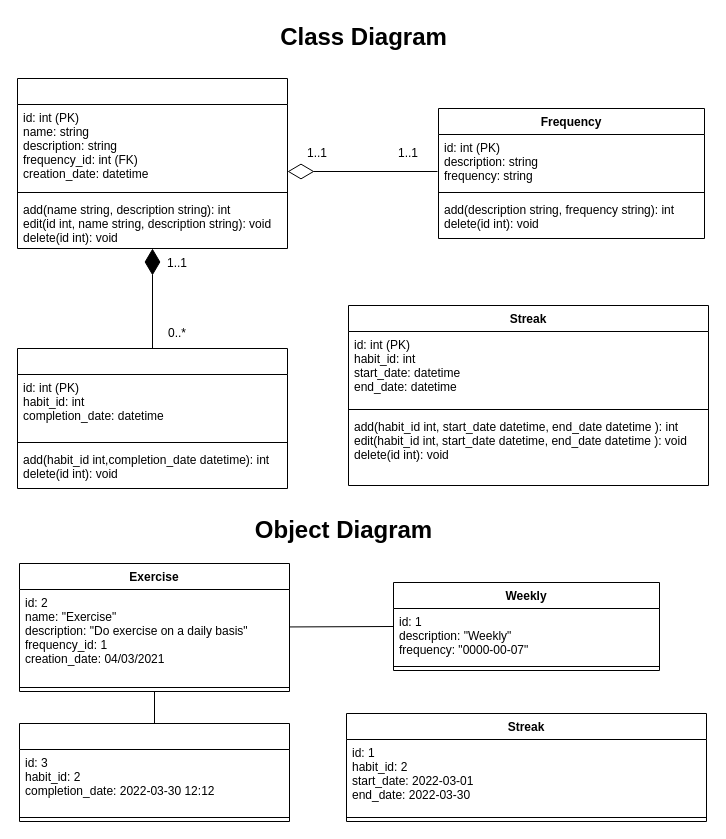
Some shapes in this 726 by 839 pixel diagram are drawn without their labels. The box of each missing label's shape, as (x1, y1, x2, y2) in pixels:
CompletedHabit: (16, 348, 288, 488)
ExerciseCompleted: (18, 722, 290, 822)
Habit: (16, 78, 288, 248)
